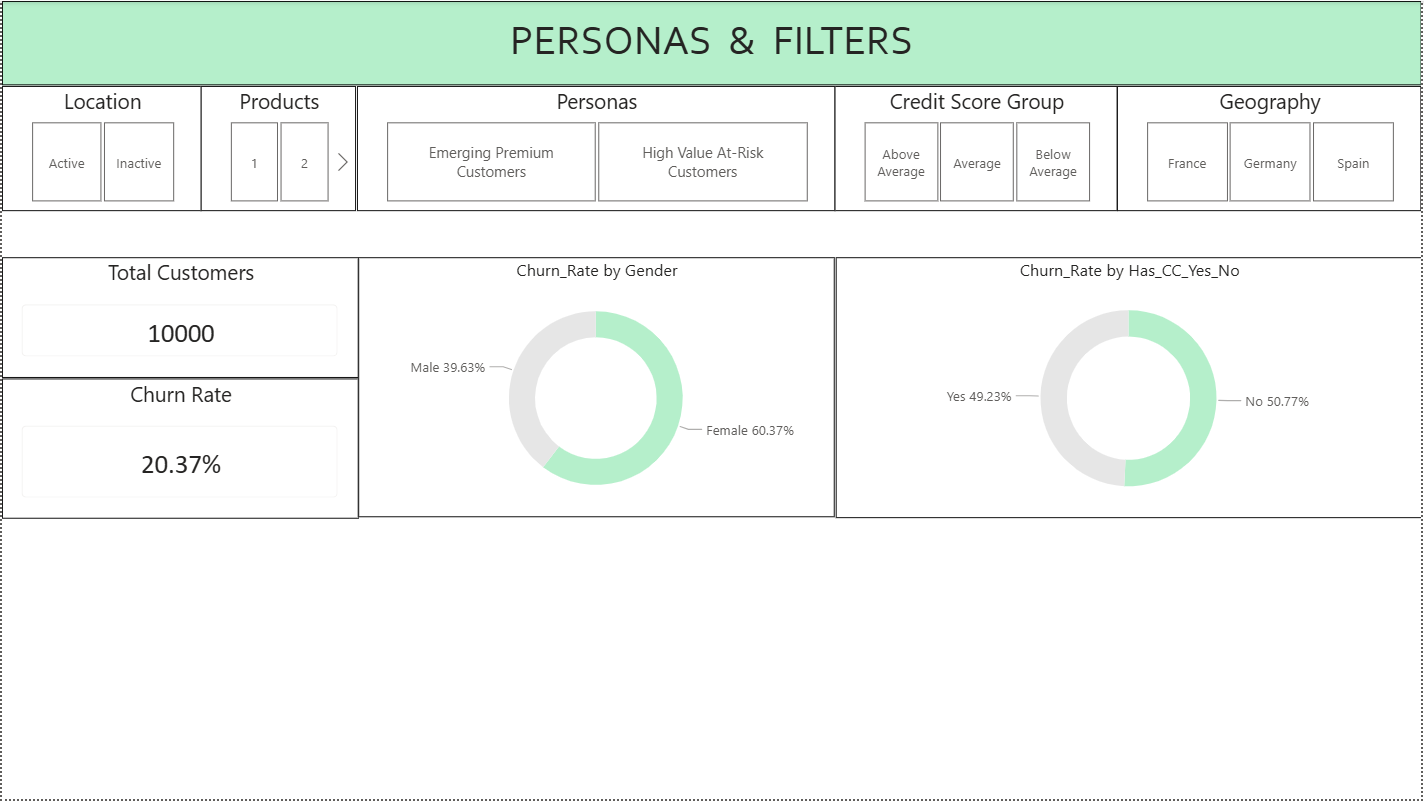

Layout of this report page (visuals, bound fields, positions):
{"tool":"powerbi","page":{"name":"Personas ","canvas":[1280,720],"ordinal":2},"visuals":[{"type":"textbox","box":[0,0,1280.3,76.2],"z":0},{"type":"slicer","title":"Location","fields":{"Values":["Bank_Churn.Activity"]},"box":[0,76.8,179.8,112.5],"z":1000},{"type":"slicer","title":"Credit Score Group","fields":{"Values":["Bank_Churn.Credit_Score_Group"]},"box":[750.6,76.8,255.2,112.5],"z":2000},{"type":"slicer","title":"Products","fields":{"Values":["Bank_Churn.Num_Of_Products"]},"box":[179.8,76.8,140,112.5],"z":3000},{"type":"cardVisual","title":"Total Customers","fields":{"Data":["Measure.Customer_cnt"]},"box":[0,231.2,321.2,108.8],"z":4000},{"type":"cardVisual","title":"Churn Rate","fields":{"Data":["Measure.Churn_Rate"]},"box":[0,340,321.2,126.2],"z":5000},{"type":"slicer","title":"Geography","fields":{"Values":["Bank_Churn.Geography"]},"box":[1005.8,76.8,274.4,112.5],"z":6000},{"type":"slicer","title":"Personas","fields":{"Values":["Bank_Churn.Personas"]},"box":[319.7,76.8,430.9,112.5],"z":7000},{"type":"donutChart","fields":{"Category":["Bank_Churn.Gender"],"Y":["Measuress.Churn_Rate"]},"box":[321.6,231.1,429.2,234.8],"z":8000},{"type":"donutChart","fields":{"Y":["Measuress.Churn_Rate"],"Category":["Bank_Churn.Has_CC_Yes_No"]},"box":[751.2,231.2,528.8,235],"z":9000}]}

Visuals, with their boxes in screenshot pixels (x1, y1, x2, y2), scaled from the page's 1280x720 canvas onto the 1424x801 screenshot:
textbox: bbox=(0, 0, 1423, 85)
"Location" slicer: bbox=(0, 85, 200, 211)
"Credit Score Group" slicer: bbox=(835, 85, 1119, 211)
"Products" slicer: bbox=(200, 85, 356, 211)
"Total Customers" cardVisual: bbox=(0, 257, 357, 378)
"Churn Rate" cardVisual: bbox=(0, 378, 357, 519)
"Geography" slicer: bbox=(1119, 85, 1423, 211)
"Personas" slicer: bbox=(356, 85, 835, 211)
donutChart - Bank_Churn.Gender x Measuress.Churn_Rate: bbox=(358, 257, 835, 518)
donutChart - Measuress.Churn_Rate x Bank_Churn.Has_CC_Yes_No: bbox=(836, 257, 1423, 519)
